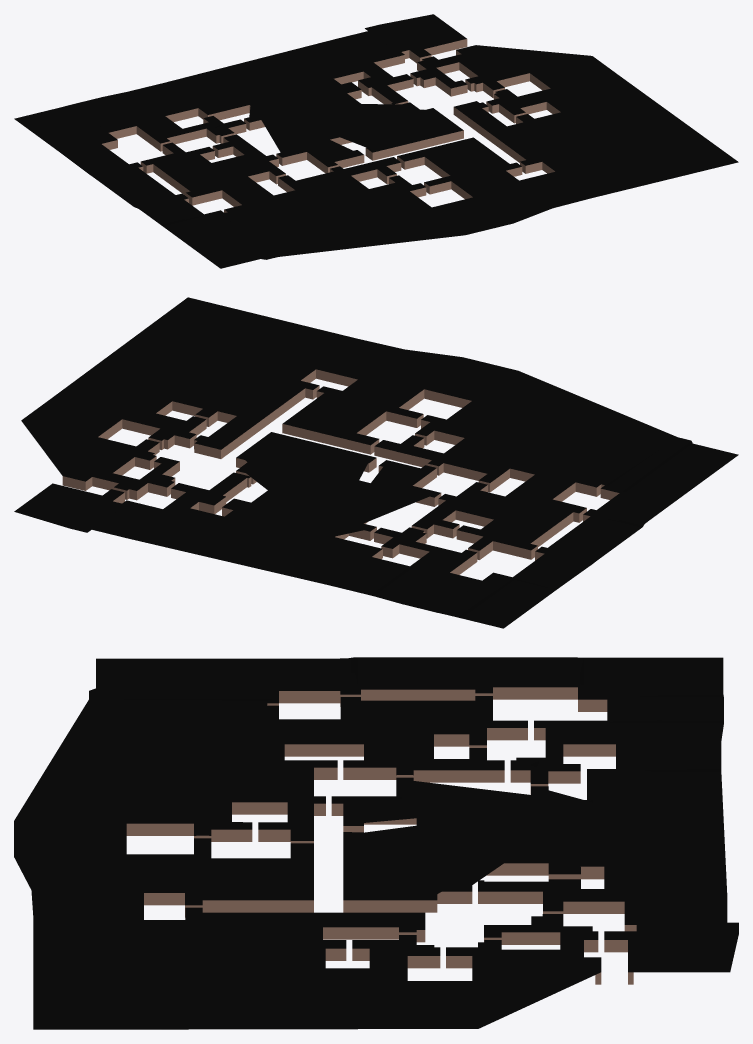
Rendered from mapcomplete.fbx.
3 views of the same model, one above another, from view 1: azimuth 30°, elevation 25°; view 2: azimuth 150°, elevation 25°; view 3: azimuth 270°, elevation 25° (orthographic). The views are drawn at different scales.
Visible parts, largest first — view 1: map; view 2: map; view 3: map.
Part boxes in pixels (x1,y1,x2,y2): map: [14, 14, 738, 268]; map: [14, 297, 738, 628]; map: [14, 657, 738, 1029].
Bounding box in the file's own units: 30071 × 468 × 24728.
